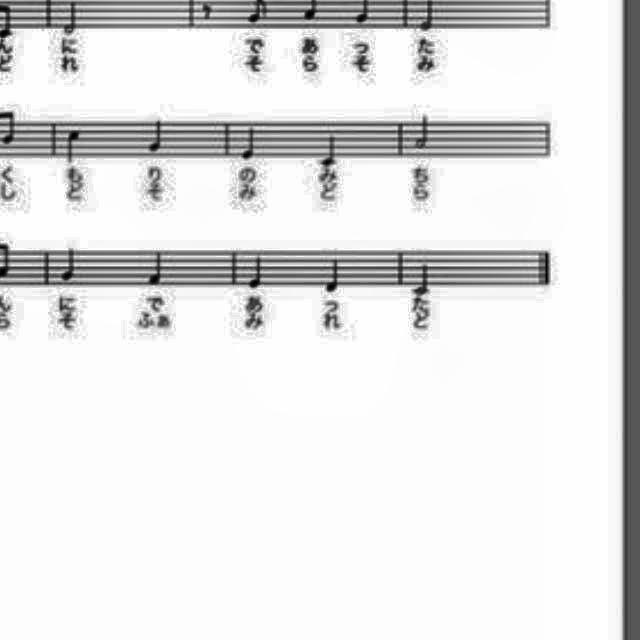Eighth-rest: (199, 0, 216, 24)
Half-note: (414, 109, 438, 153), (55, 0, 84, 36), (412, 262, 436, 296)
Quarter-note: (52, 242, 86, 288), (136, 115, 176, 154), (238, 120, 264, 166), (320, 254, 348, 294), (243, 252, 271, 292), (319, 131, 345, 171), (144, 246, 170, 286), (66, 125, 85, 164)
